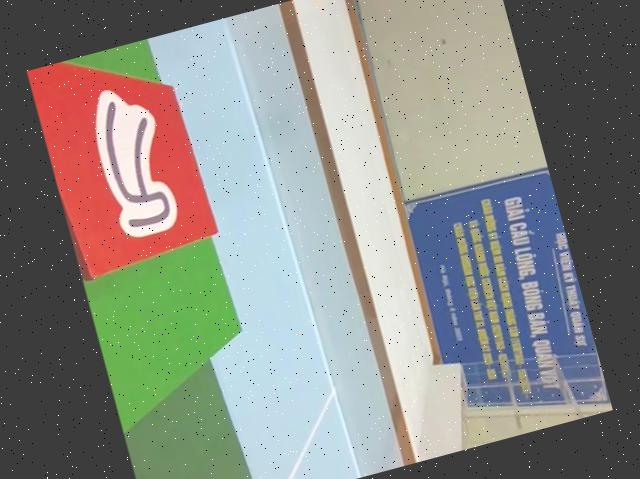R2 Fake: (27, 33, 223, 284)
